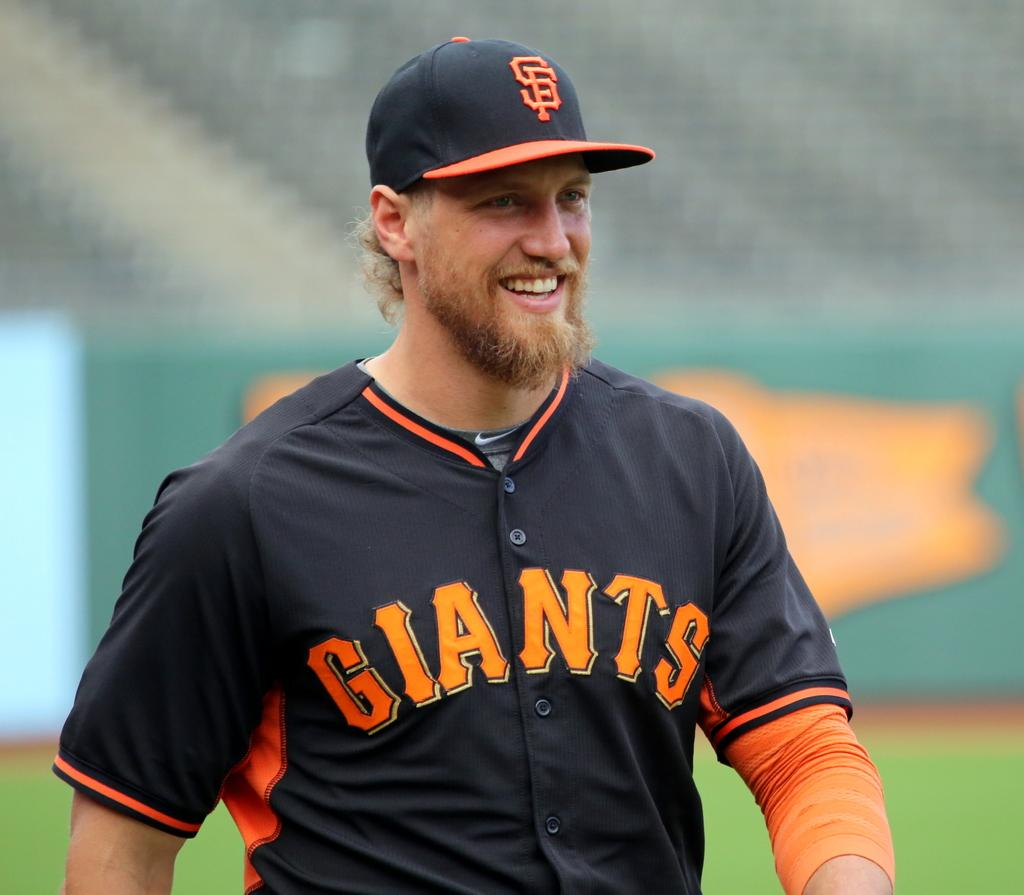Hat: (363, 36, 655, 194)
